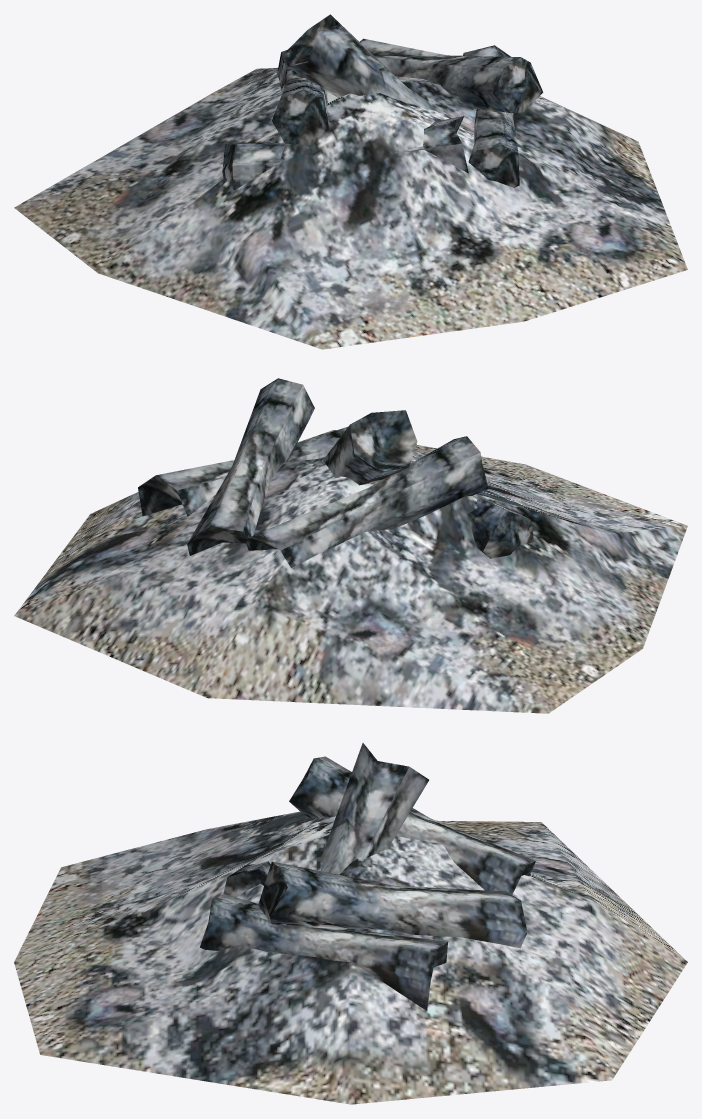
Rendered from eqp_camping_log_smoldering_l0.fbx.
The picture shows the model from 3 angles, top to bottom: view 1: azimuth 30°, elevation 25°; view 2: azimuth 150°, elevation 25°; view 3: azimuth 270°, elevation 25°; orthographic projection. The views are drawn at different scales.
Parts seen in each view (by area): view 1: mesh_node; view 2: mesh_node; view 3: mesh_node.
Boxes of the visible parts, x1,y1,x2,y2 form: mesh_node: (14,14,687,349); mesh_node: (14,378,687,713); mesh_node: (14,743,687,1104).
Size of the model in its own units: 1.13 by 0.3651 by 1.13.
Materials: 2 (2 with a texture image).
